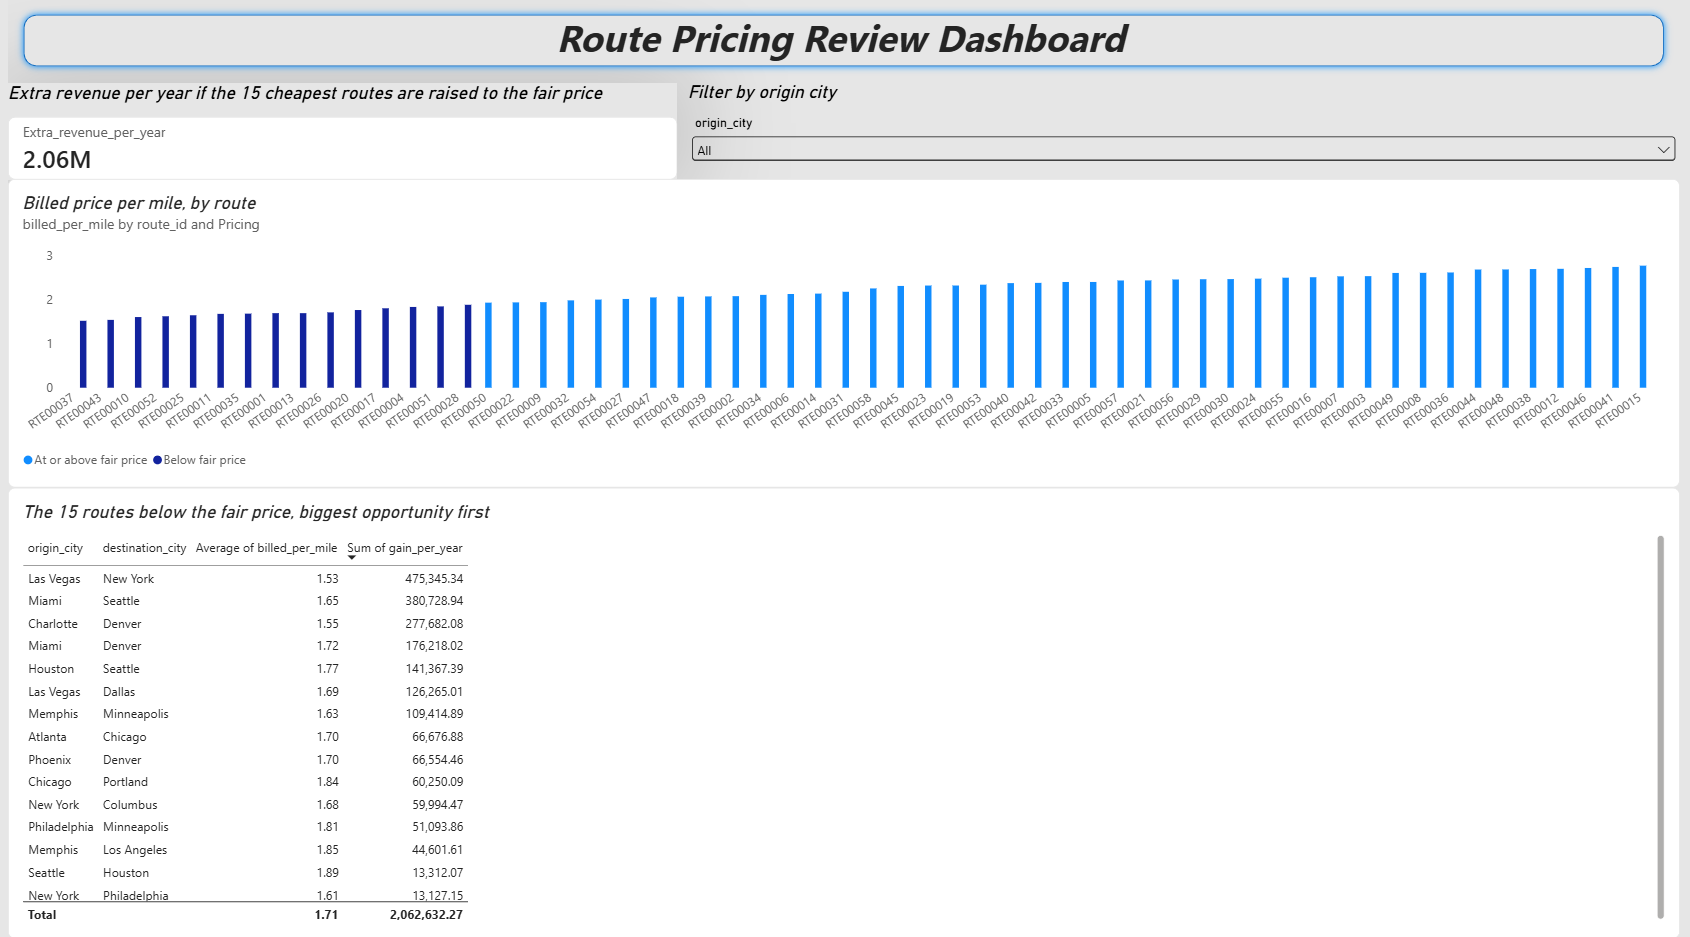

What the dashboard file says about the page in this screenshot:
{"tool":"powerbi","page":{"name":"Page 1","canvas":[1920,1080],"ordinal":0},"visuals":[{"type":"cardVisual","title":"Extra revenue per year if the 15 cheapest routes are raised to the fair price","fields":{"Data":["Sum(route_pricing.gain_per_year)"]},"box":[0,95.9,769.1,112.2],"z":0},{"type":"clusteredColumnChart","title":"Billed price per mile, by route","fields":{"Category":["route_pricing.route_id"],"Y":["Sum(route_pricing.billed_per_mile)"],"Series":["route_pricing.Pricing"]},"box":[0,207.3,1920.5,354],"z":1000},{"type":"tableEx","title":"The 15 routes below the fair price, biggest opportunity first","fields":{"Values":["route_pricing.origin_city","route_pricing.destination_city","Avg(route_pricing.billed_per_mile)","Sum(route_pricing.gain_per_year)"]},"box":[0,561.3,1920.5,519.1],"z":2000},{"type":"slicer","title":"Filter by origin city","fields":{"Values":["route_pricing.origin_city"]},"box":[781.4,95.4,1139.1,99],"z":3000},{"type":"shape","box":[0,0,1920.5,95.4],"z":4000,"group":"g1"},{"type":"textbox","box":[27.2,14.4,1858.9,59.4],"z":5000,"group":"g1"},{"type":"group","id":"g1","title":"Group 1","box":[0,0,1920.5,95.4],"z":5001}]}

Visuals, with their boxes in screenshot pixels (x1, y1, x2, y2), scaled from the page's 1920x1080 canvas onto the 1690x937 screenshot:
"Extra revenue per year if the 15 cheapest routes are raised to the fair price" cardVisual: 0,83,677,181
"Billed price per mile, by route" clusteredColumnChart: 0,180,1689,487
"The 15 routes below the fair price, biggest opportunity first" tableEx: 0,487,1689,936
"Filter by origin city" slicer: 688,83,1689,169
shape: 0,0,1689,83
textbox: 24,12,1660,64
"Group 1" group: 0,0,1689,83
